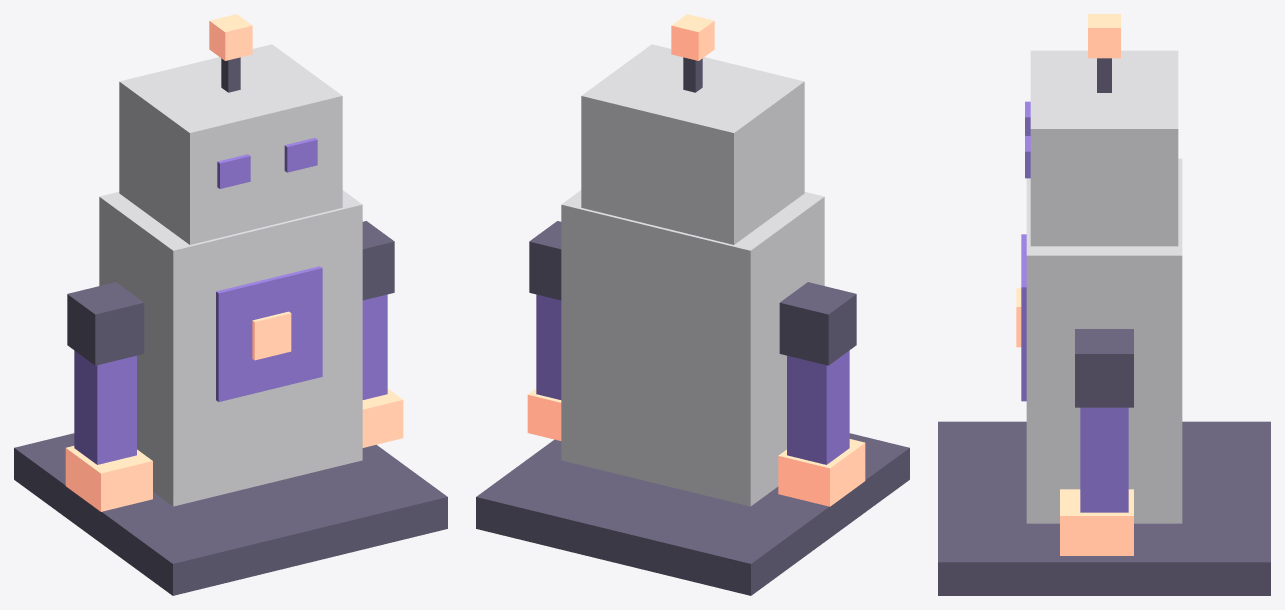
File: demo-robot.glb
3 views of the same model, side by side, from view 1: azimuth 30°, elevation 25°; view 2: azimuth 150°, elevation 25°; view 3: azimuth 270°, elevation 25° (orthographic). The views are drawn at different scales.
Parts seen in each view (by area): view 1: DemoRobot; view 2: DemoRobot; view 3: DemoRobot.
Boxes of the visible parts, x1,y1,x2,y2 form: DemoRobot: (14,14,447,595); DemoRobot: (476,14,909,595); DemoRobot: (938,14,1270,595).
Bounding box in the file's own units: 0.99 × 1.5 × 0.9.
